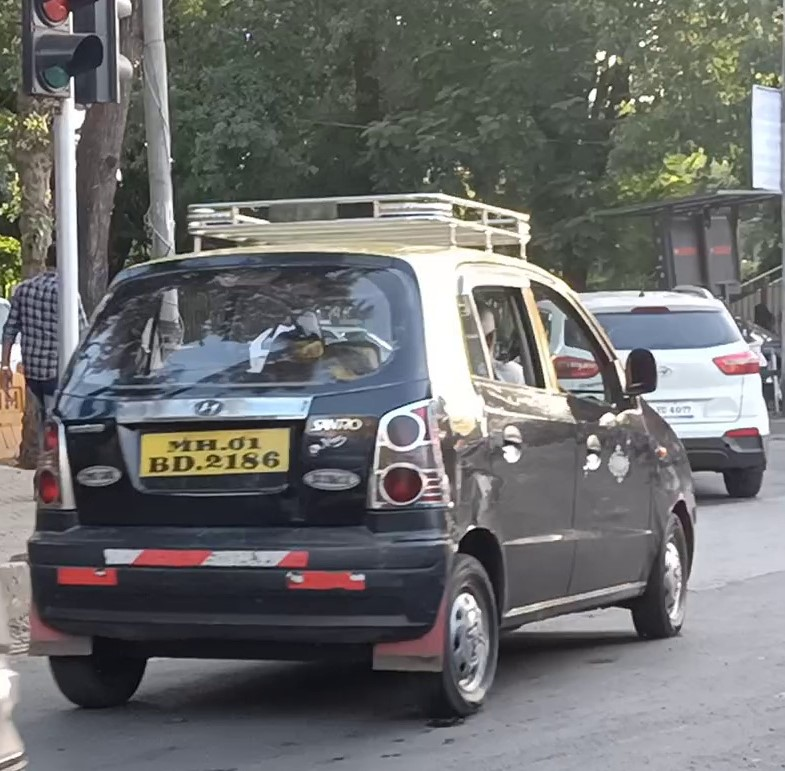MH01BD2186: (138, 426, 290, 474)
